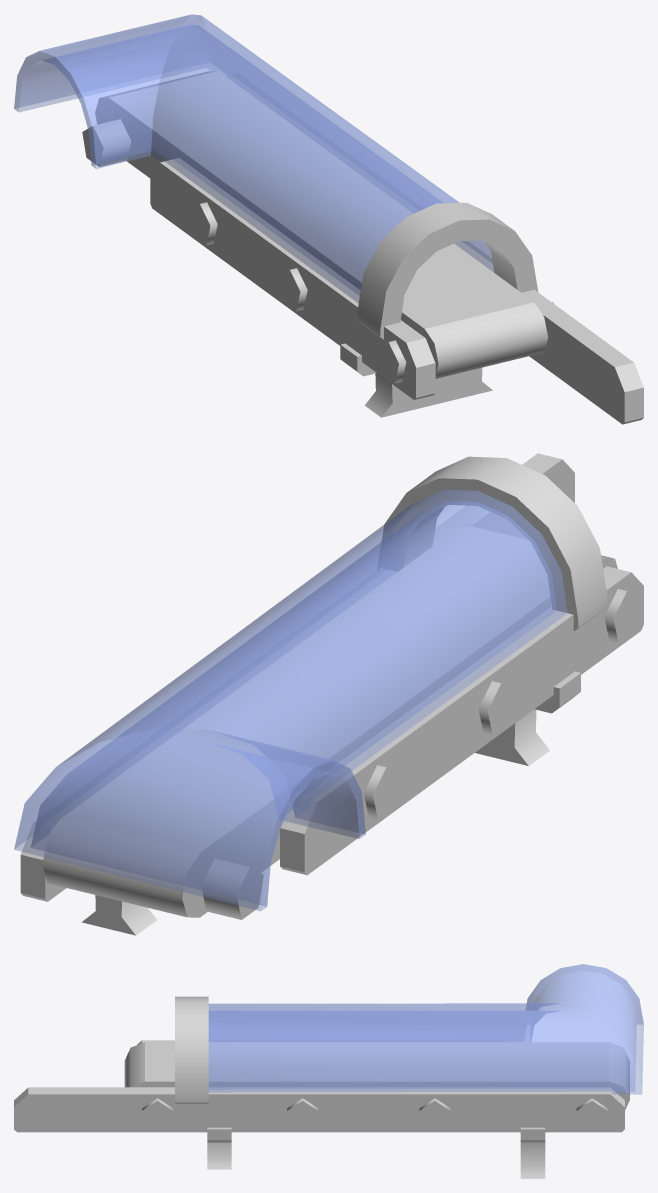
The model's file is factory_line_right.FBX.
3 views of the same model, one above another, from view 1: azimuth 30°, elevation 25°; view 2: azimuth 150°, elevation 25°; view 3: azimuth 270°, elevation 25° (orthographic). The views are drawn at different scales.
Visible parts, largest first — view 1: Box002, オブジェクト001; view 2: Box002, オブジェクト001; view 3: Box002, オブジェクト001.
Boxes of the visible parts, box(x1,y1,x2,y2) form: Box002: box(82, 71, 643, 424); オブジェクト001: box(14, 14, 493, 302); Box002: box(20, 453, 643, 935); オブジェクト001: box(14, 490, 567, 910); Box002: box(14, 996, 629, 1178); オブジェクト001: box(208, 964, 643, 1094).
Bounding box in the file's own units: 165 × 151 × 586.
